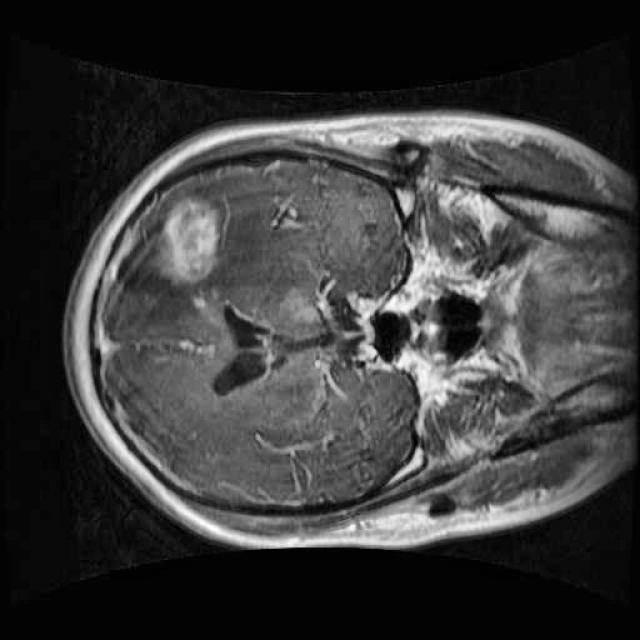Non-Tumor: (146, 185, 233, 294)
